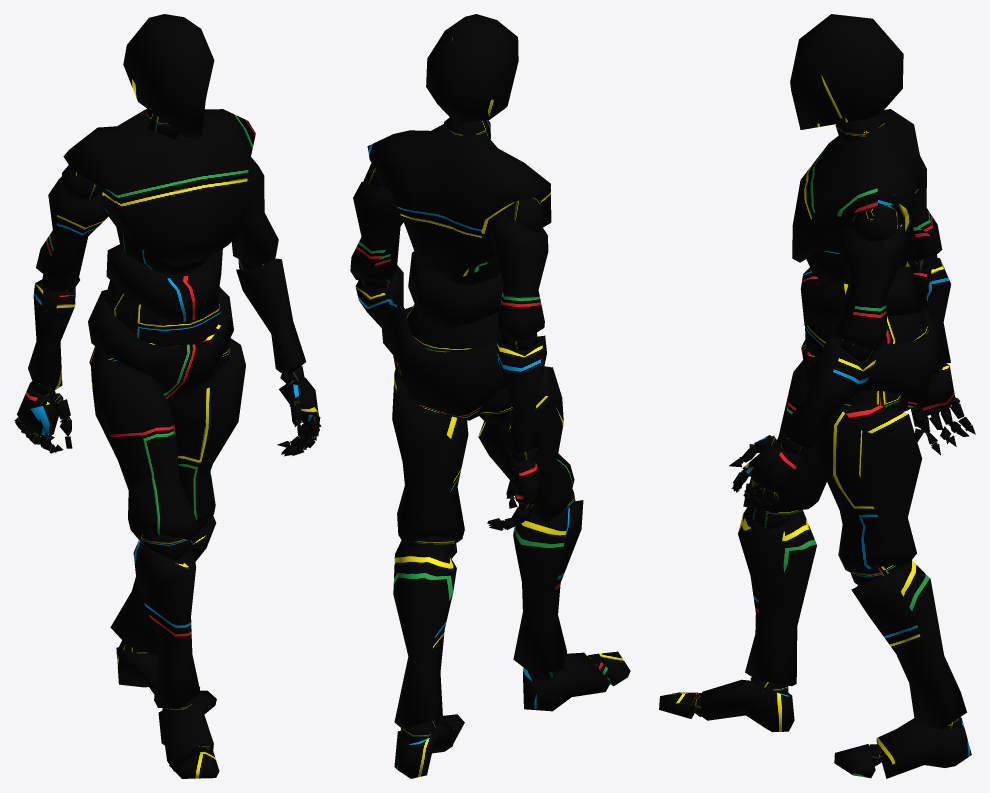
File: y-bot-origin_000002.obj
3 renders of one model, left to right at view 1: azimuth 30°, elevation 25°; view 2: azimuth 150°, elevation 25°; view 3: azimuth 270°, elevation 25°, orthographic. The views are drawn at different scales.
Visible parts, largest first — view 1: Alpha_Surface_Alpha_SurfaceMesh, Alpha_Joints_Alpha_JointsMesh; view 2: Alpha_Surface_Alpha_SurfaceMesh, Alpha_Joints_Alpha_JointsMesh; view 3: Alpha_Surface_Alpha_SurfaceMesh, Alpha_Joints_Alpha_JointsMesh.
Boxes of the visible parts, x1,y1,x2,y2 form: Alpha_Surface_Alpha_SurfaceMesh: (15,14,319,778); Alpha_Joints_Alpha_JointsMesh: (14,108,321,752); Alpha_Surface_Alpha_SurfaceMesh: (350,14,630,778); Alpha_Joints_Alpha_JointsMesh: (362,117,597,743); Alpha_Surface_Alpha_SurfaceMesh: (659,14,975,778); Alpha_Joints_Alpha_JointsMesh: (689,115,968,766).
Size of the model in its own units: 0.57 by 1.78 by 0.6915.
